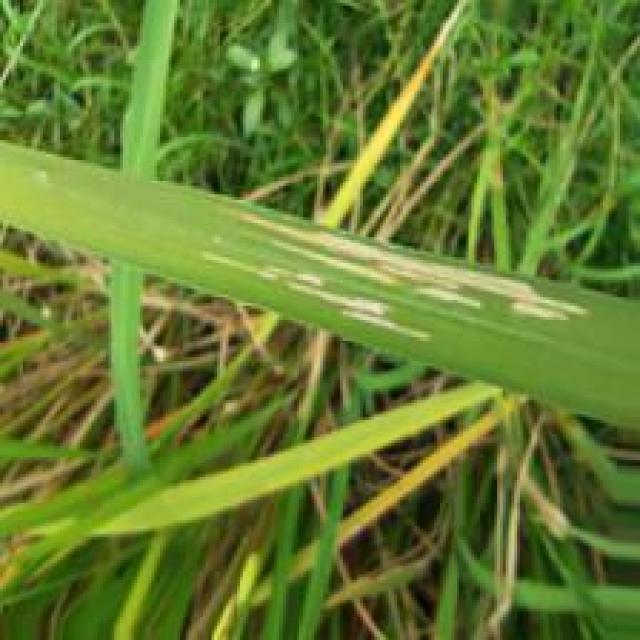Rice_Hispa: (216, 210, 586, 320), (207, 252, 424, 337)
